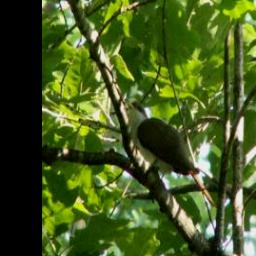Cuckoo: (121, 97, 218, 209)
